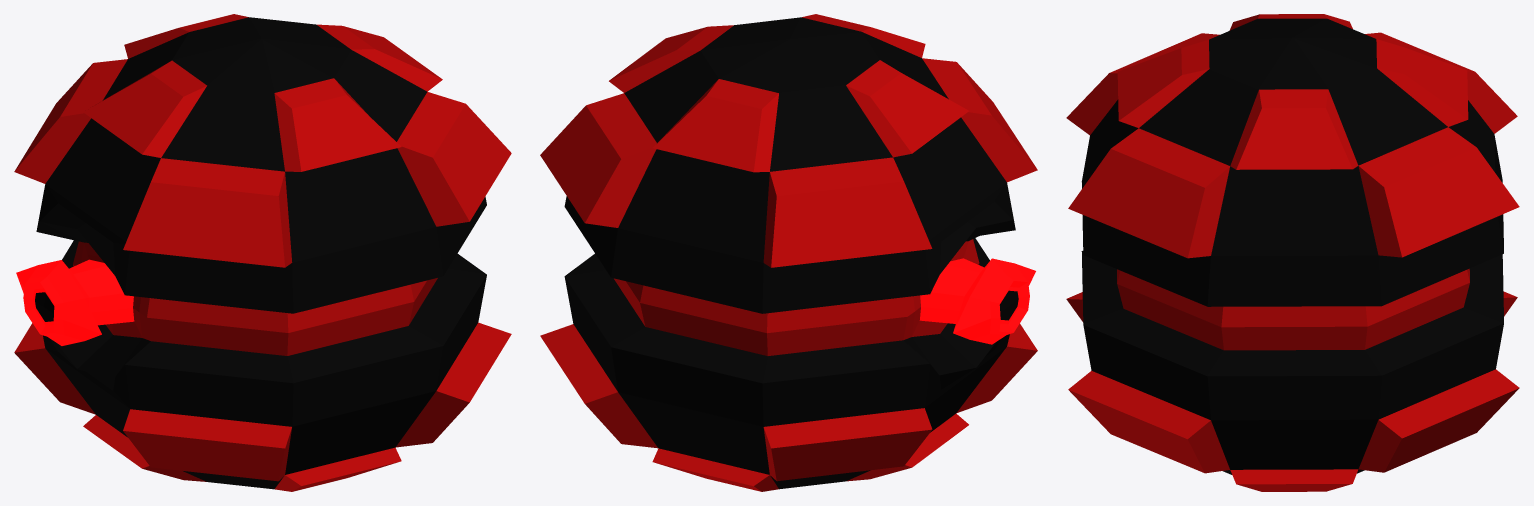
The model's file is Enemy.fbx.
3 views of the same model, side by side, from view 1: azimuth 30°, elevation 25°; view 2: azimuth 150°, elevation 25°; view 3: azimuth 270°, elevation 25° (orthographic).
Visible parts, largest first — view 1: Sphere; view 2: Sphere; view 3: Sphere.
Boxes of the visible parts, box(x1,y1,x2,y2) form: Sphere: box(14, 14, 511, 491); Sphere: box(540, 14, 1037, 491); Sphere: box(1066, 14, 1519, 491).
Bounding box in the file's own units: 247 × 240 × 230.
